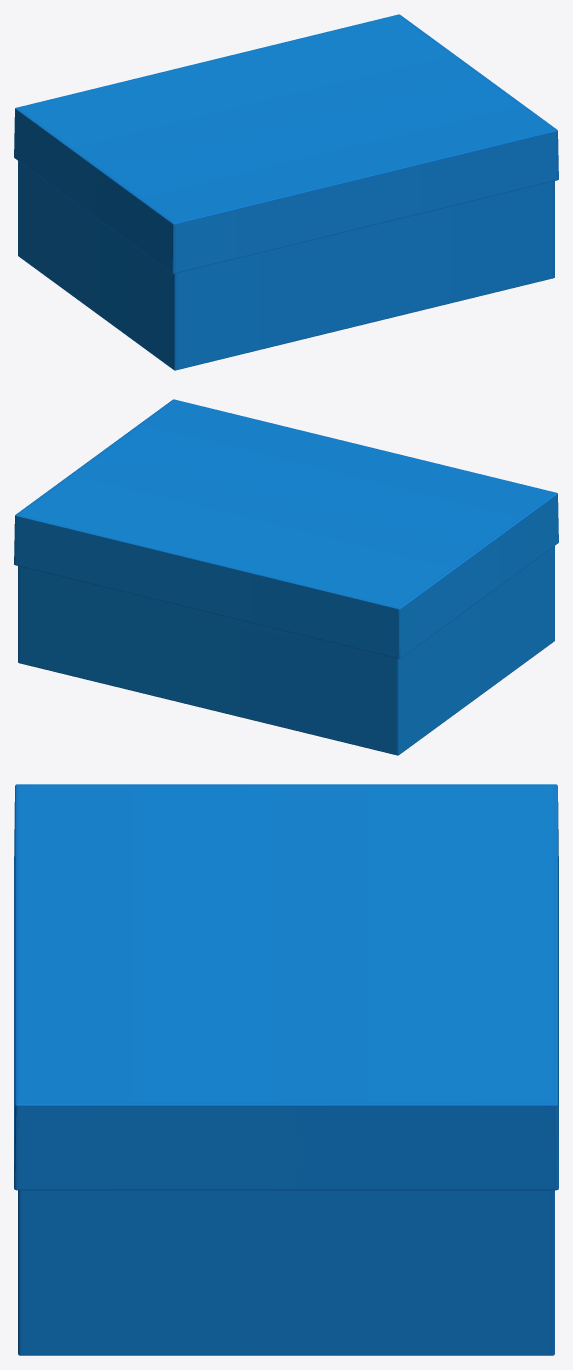
File: Blue Shoebox.fbx
3 views of the same model, one above another, from view 1: azimuth 30°, elevation 25°; view 2: azimuth 150°, elevation 25°; view 3: azimuth 270°, elevation 25° (orthographic). The views are drawn at different scales.
Visible parts, largest first — view 1: Blue Shoebox; view 2: Blue Shoebox; view 3: Blue Shoebox.
Part boxes in pixels (x1,y1,x2,y2): Blue Shoebox: [14, 14, 558, 370]; Blue Shoebox: [14, 399, 558, 755]; Blue Shoebox: [14, 784, 558, 1355].
Size of the model in its own units: 95.2 by 186 by 260.
1 material, 1 textured.
